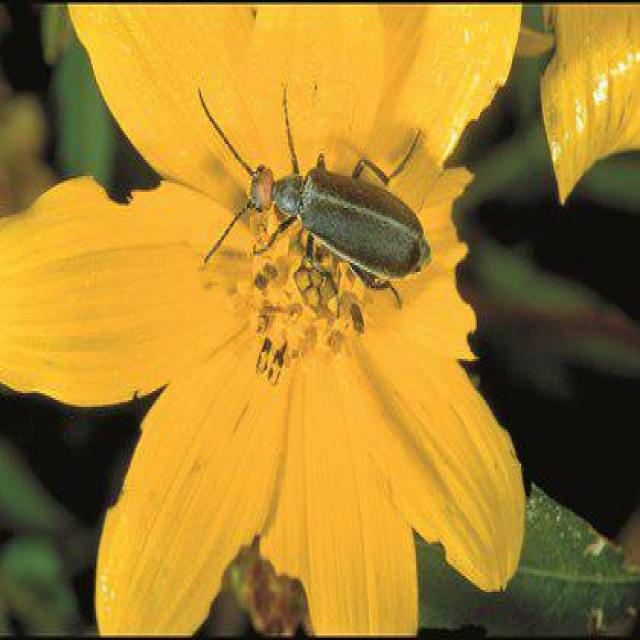BlisterBeetle-Adult-: (186, 72, 445, 314)
